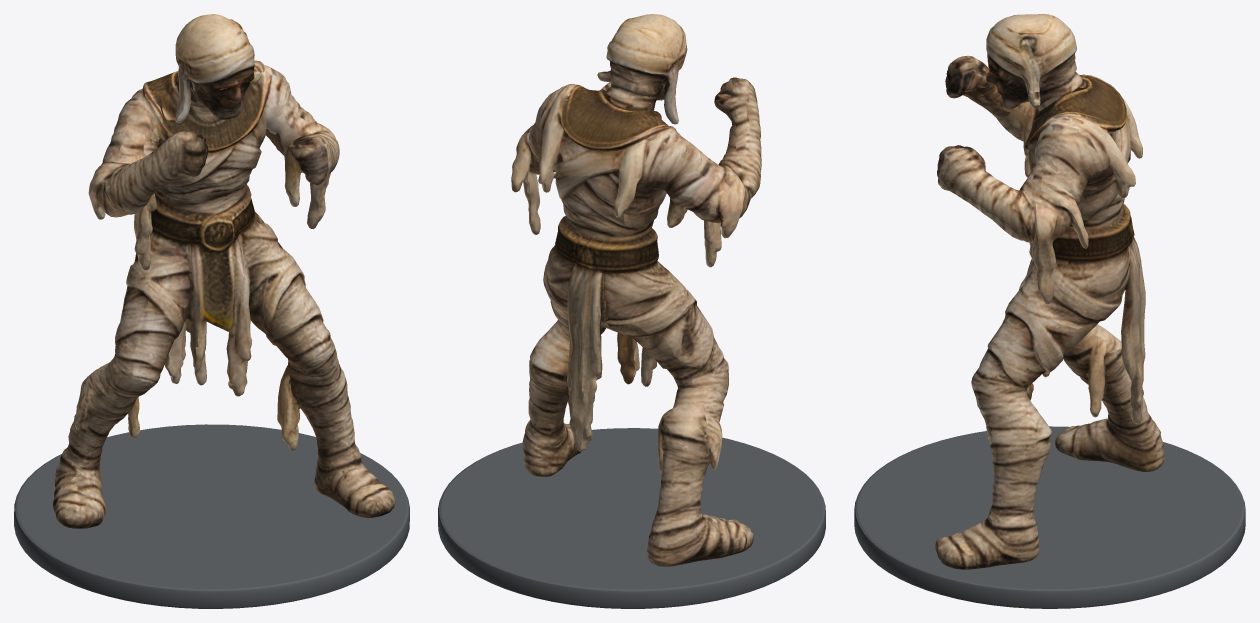
The model's file is mummy.glb.
3 renders of one model, left to right at view 1: azimuth 30°, elevation 25°; view 2: azimuth 150°, elevation 25°; view 3: azimuth 270°, elevation 25°, orthographic.
Parts seen in each view (by area): view 1: mummy_body, mummy_round_base; view 2: mummy_body, mummy_round_base; view 3: mummy_body, mummy_round_base.
Part boxes in pixels (x1,y1,x2,y2): mummy_body: (53,14,395,528); mummy_round_base: (14,424,409,608); mummy_body: (511,14,761,566); mummy_round_base: (438,428,825,608); mummy_body: (935,14,1164,569); mummy_round_base: (854,426,1245,608).
Size of the model in its own units: 1 by 1.43 by 1.
Materials: 2 (1 with a texture image).
